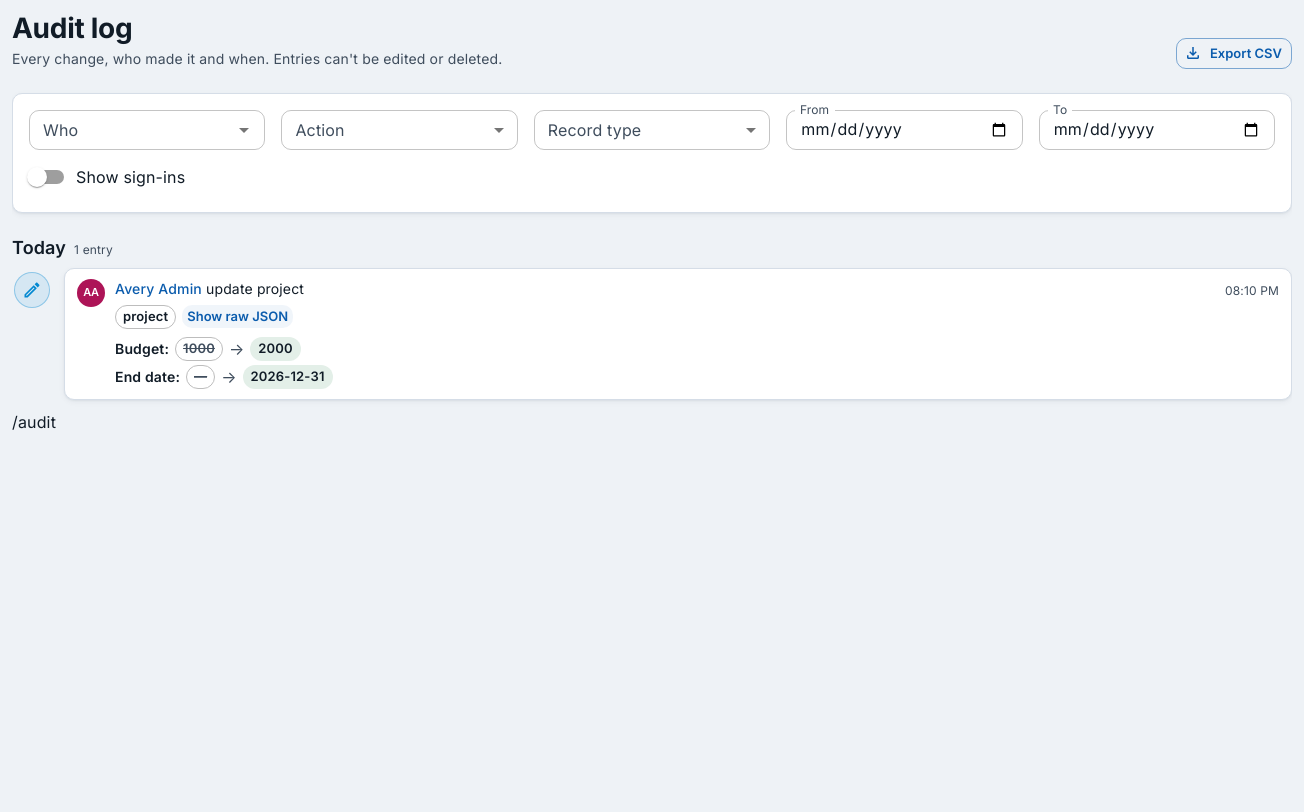
Test: AuditPage › raw JSON and the request id stay behind a toggle
Click the button "Show raw JSON". click: (238, 317)
box: x1=182 y1=305 x2=293 y2=328
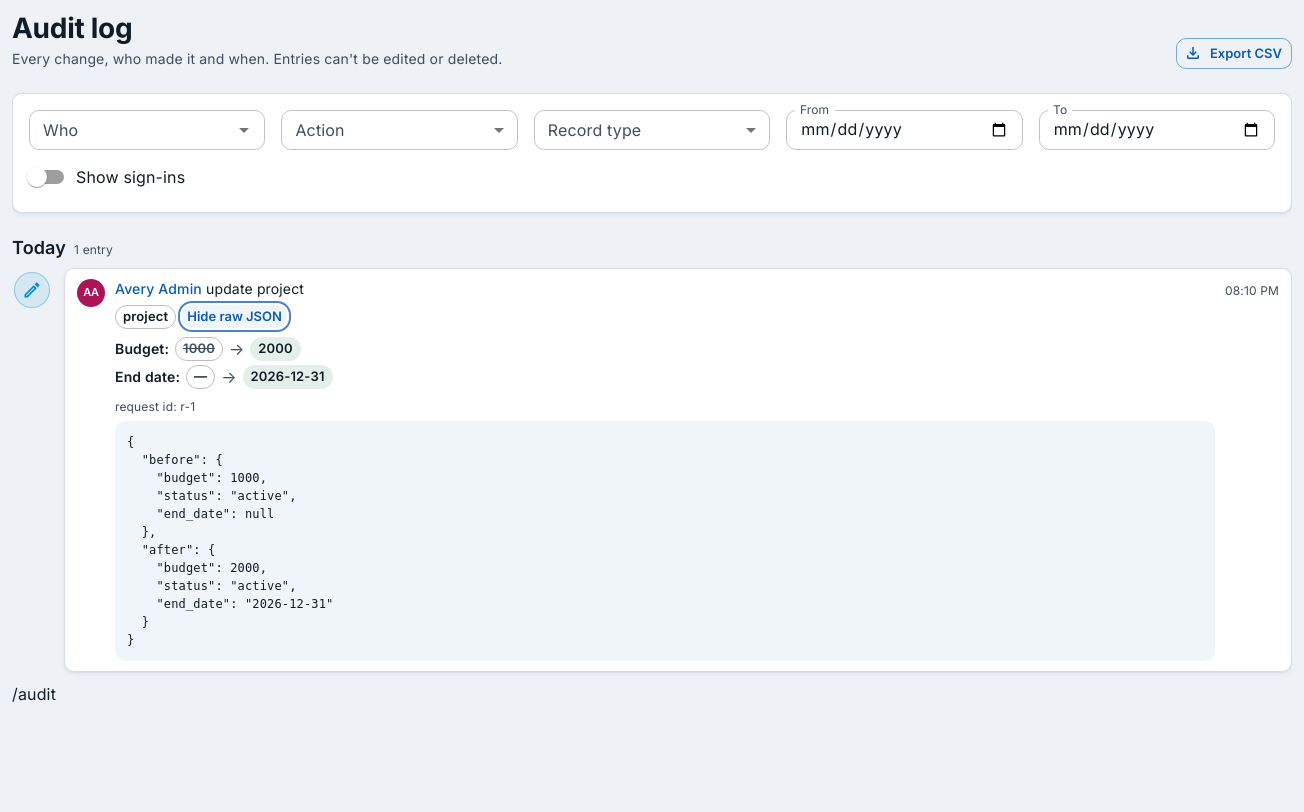
Check: the text "\"budget\": 2000" is shown, box x1=127 y1=434 x2=334 y2=646
Check: the text "request id: r-1" is shown, box x1=115 y1=399 x2=195 y2=414
